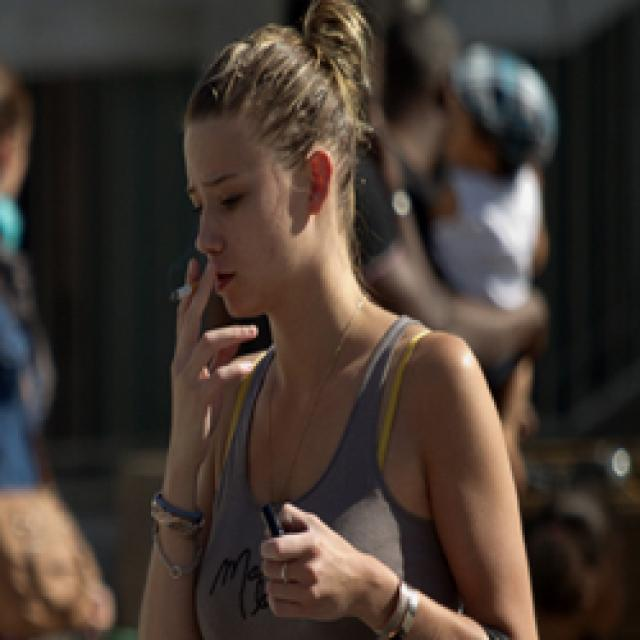Smooking: (164, 268, 215, 305)
